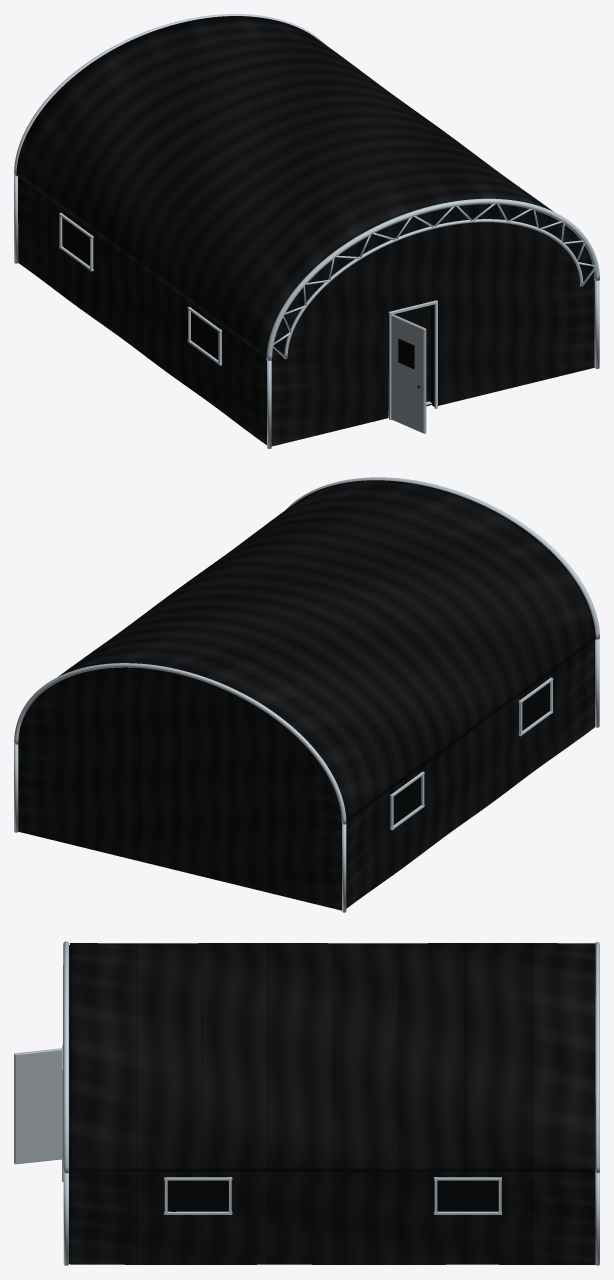
The model's file is SnowFieldShelter_OpenDoor.glb.
3 renders of one model, top to bottom at view 1: azimuth 30°, elevation 25°; view 2: azimuth 150°, elevation 25°; view 3: azimuth 270°, elevation 25°, orthographic. The views are drawn at different scales.
Visible parts, largest first — view 1: Shelter_Charcoal_insulated_fabric, Shelter_White_painted_aluminum, Shelter_Off-white_steel_door, Shelter_Dark_sealed_window, Shelter_Black_reinforced_seam; view 2: Shelter_Charcoal_insulated_fabric, Shelter_White_painted_aluminum, Shelter_Dark_sealed_window; view 3: Shelter_Charcoal_insulated_fabric, Shelter_Off-white_steel_door, Shelter_White_painted_aluminum, Shelter_Dark_sealed_window.
Part boxes in pixels (x1,y1,x2,y2): Shelter_Charcoal_insulated_fabric: (16, 16, 594, 446); Shelter_White_painted_aluminum: (14, 14, 599, 448); Shelter_Off-white_steel_door: (391, 314, 426, 433); Shelter_Dark_sealed_window: (62, 218, 413, 367); Shelter_Black_reinforced_seam: (388, 301, 431, 404); Shelter_Charcoal_insulated_fabric: (18, 480, 595, 910); Shelter_White_painted_aluminum: (14, 477, 599, 912); Shelter_Dark_sealed_window: (393, 682, 549, 824); Shelter_Charcoal_insulated_fabric: (69, 943, 595, 1264); Shelter_Off-white_steel_door: (14, 1048, 61, 1164); Shelter_White_painted_aluminum: (62, 941, 599, 1265); Shelter_Dark_sealed_window: (168, 1181, 497, 1211).
Bounding box in the file's own units: 24.56 × 14.23 × 35.62.
Materials: 8 (8 with a texture image).
